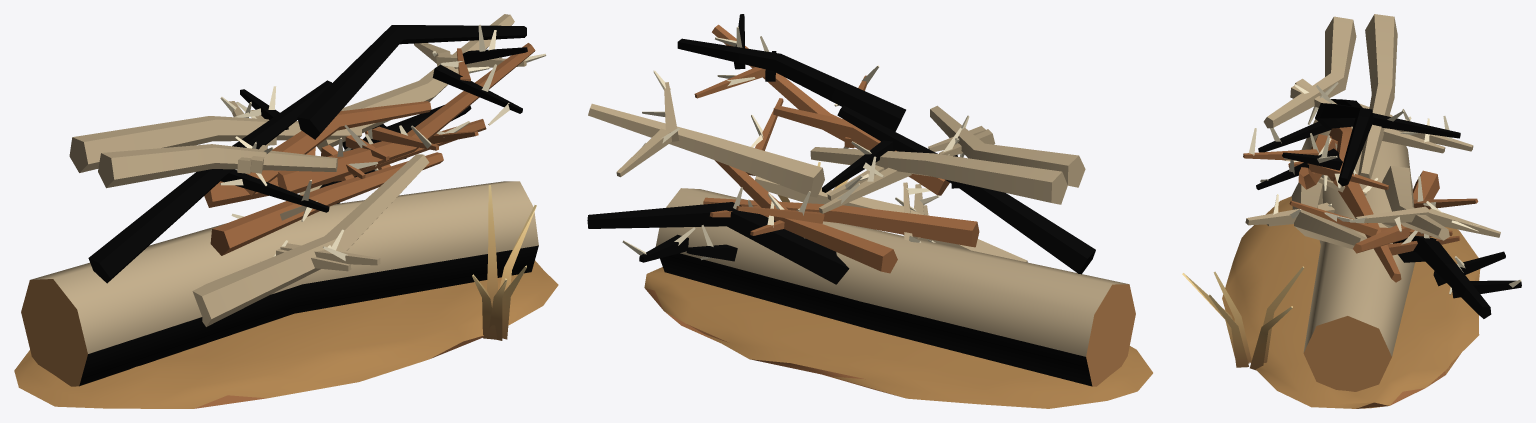
File: ThornHedge.fbx
3 views of the same model, side by side, from view 1: azimuth 30°, elevation 25°; view 2: azimuth 150°, elevation 25°; view 3: azimuth 270°, elevation 25° (orthographic). The views are drawn at different scales.
Parts seen in each view (by area): view 1: ThornHedge; view 2: ThornHedge; view 3: ThornHedge.
Part boxes in pixels (x1=…): ThornHedge: x1=14, y1=14, x2=558, y2=408; ThornHedge: x1=587, y1=14, x2=1152, y2=408; ThornHedge: x1=1182, y1=14, x2=1521, y2=408.
Size of the model in its own units: 1.76 by 0.8495 by 1.07.
1 material, 1 textured.
